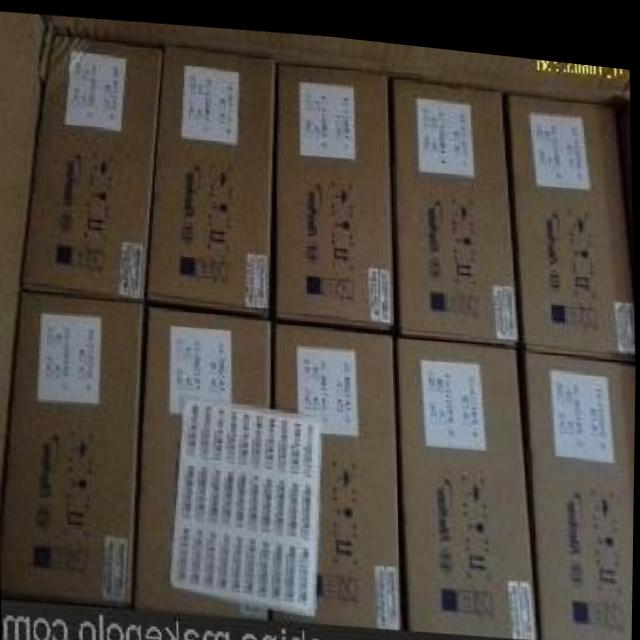box: (1, 289, 144, 603), (397, 326, 539, 627), (134, 303, 270, 616), (273, 317, 403, 621), (22, 34, 161, 296), (146, 42, 275, 311), (507, 83, 636, 346), (394, 67, 519, 335), (525, 338, 636, 632), (276, 56, 394, 320)
